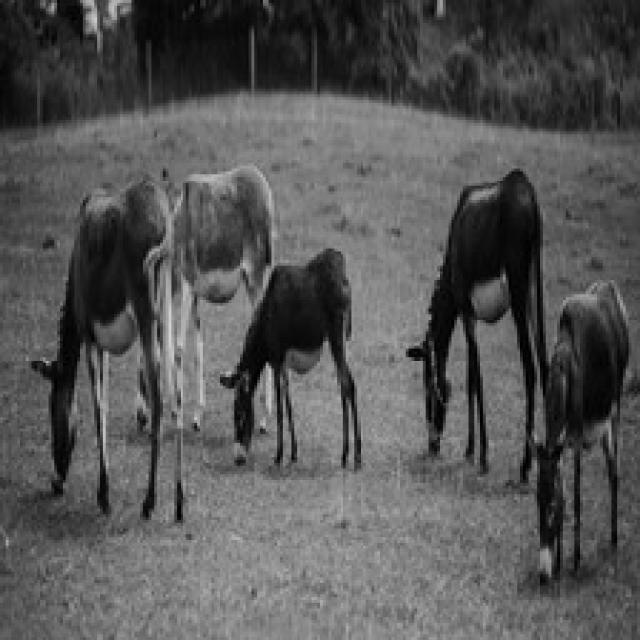Donkey: (28, 171, 185, 523), (403, 166, 548, 483), (132, 163, 274, 431), (217, 246, 360, 468), (532, 277, 628, 586)
